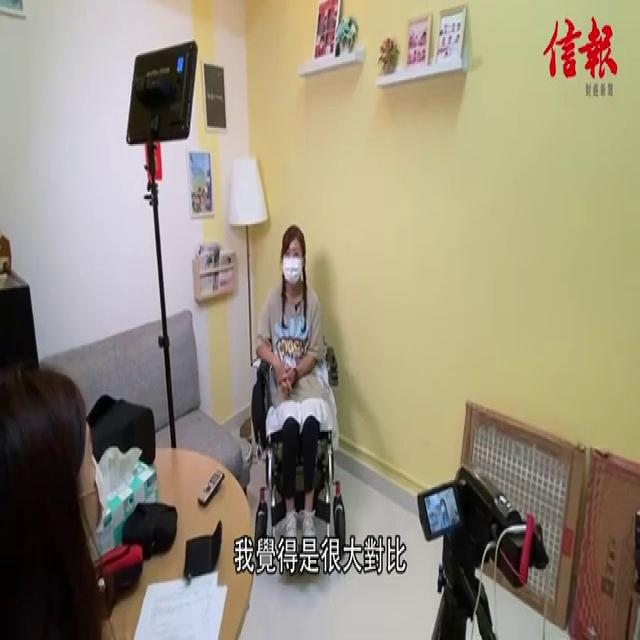wheelchairs: (246, 340, 351, 547)
